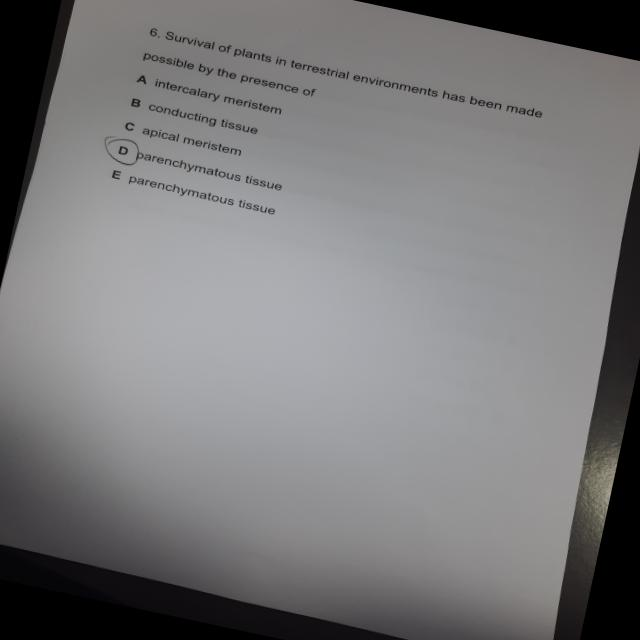D: (100, 133, 147, 170)
